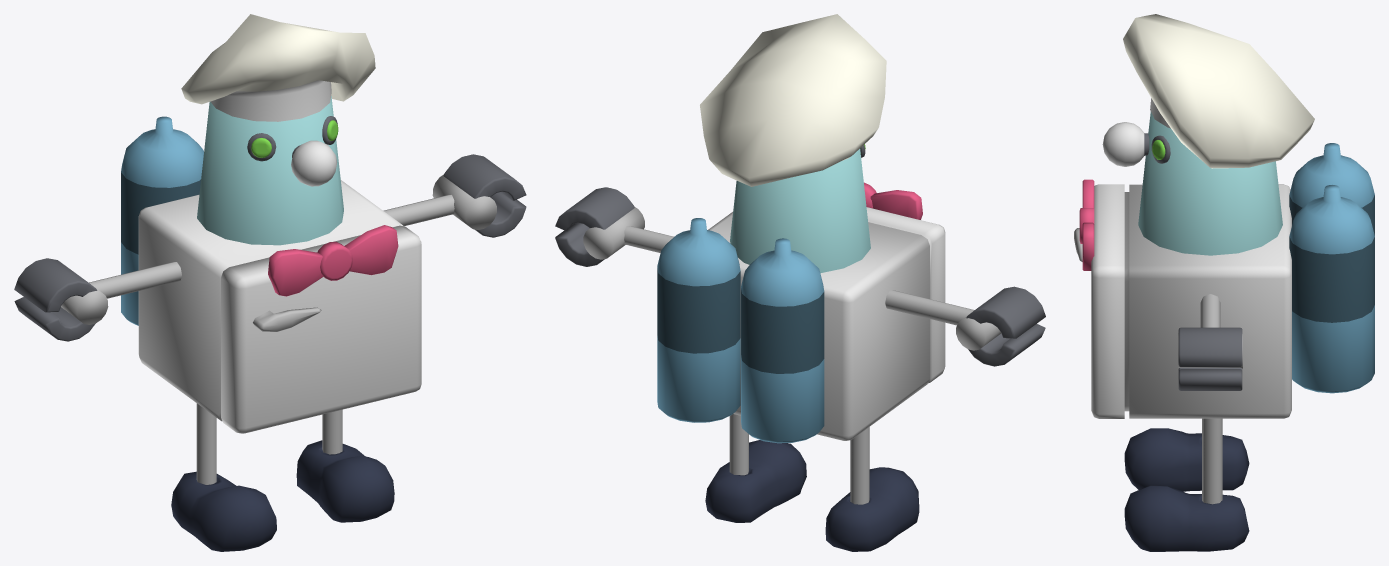
File: robot01.fbx
The picture shows the model from 3 angles, left to right: view 1: azimuth 30°, elevation 25°; view 2: azimuth 150°, elevation 25°; view 3: azimuth 270°, elevation 25°; orthographic projection. The views are drawn at different scales.
Parts seen in each view (by area): view 1: eobot; view 2: eobot; view 3: eobot.
Part boxes in pixels (bbox=[...]): eobot: bbox=[14, 14, 526, 551]; eobot: bbox=[555, 14, 1045, 551]; eobot: bbox=[1074, 14, 1374, 551].
Bounding box in the file's own units: 189 × 189 × 105.
